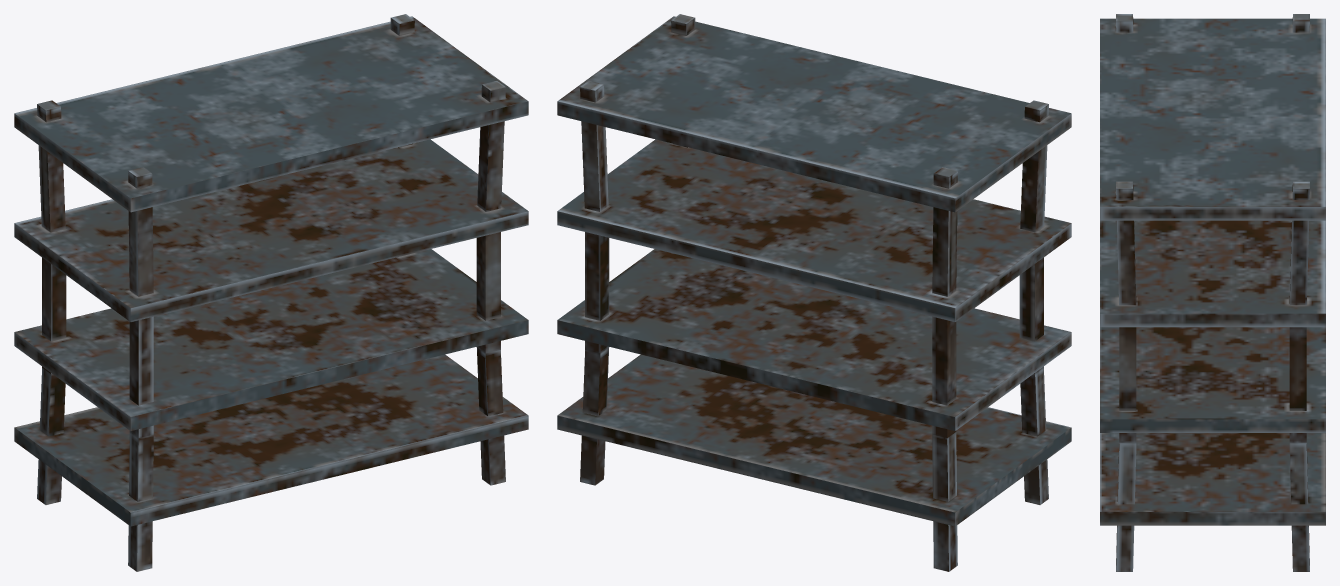
Rendered from shelf.fbx.
3 renders of one model, left to right at view 1: azimuth 30°, elevation 25°; view 2: azimuth 150°, elevation 25°; view 3: azimuth 270°, elevation 25°, orthographic. The views are drawn at different scales.
Parts seen in each view (by area): view 1: Shelf; view 2: Shelf; view 3: Shelf.
Part boxes in pixels (bbox=[...]): Shelf: bbox=[14, 14, 528, 571]; Shelf: bbox=[557, 14, 1071, 571]; Shelf: bbox=[1100, 14, 1325, 571].
Size of the model in its own units: 172 by 163 by 87.3.
Materials: 1 (1 with a texture image).
